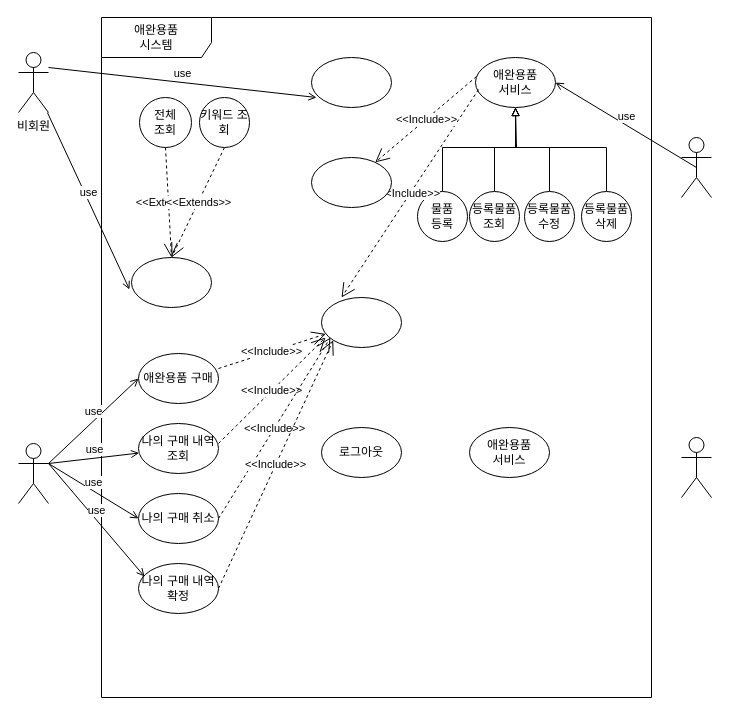
The diagram is 730 pixels wide and 715 high, and some of its shapes have lost their labels. The centre of each missing label's shape, as x and y in pixels:
계정전환: point 351,182
관리자: point 696,467
로그인: point 361,322
애완용품 조회: point 171,282
판매자: point 696,167
회원: point 33,473
회원가입: point 351,82
